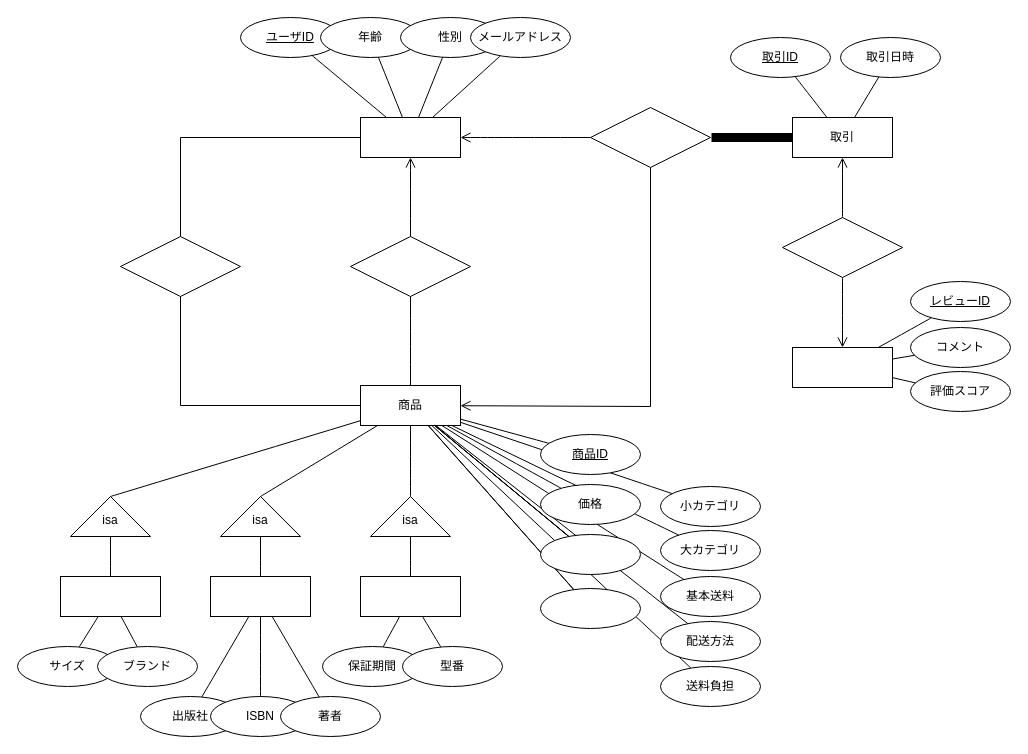
This 1028x754 diagram has some shape labels left out. Each missing label, with the centre of its shape:
"いいね" belongs at (x=180, y=266).
"アパレル" belongs at (x=110, y=596).
"ユーザ" belongs at (x=410, y=137).
"レビュー" belongs at (x=842, y=367).
"出品" belongs at (x=410, y=266).
"家電" belongs at (x=410, y=596).
"成立" belongs at (x=650, y=137).
"書籍" belongs at (x=260, y=596).
"状態" belongs at (x=590, y=608).
"評価" belongs at (x=842, y=247).
"説明文" belongs at (x=590, y=554).
